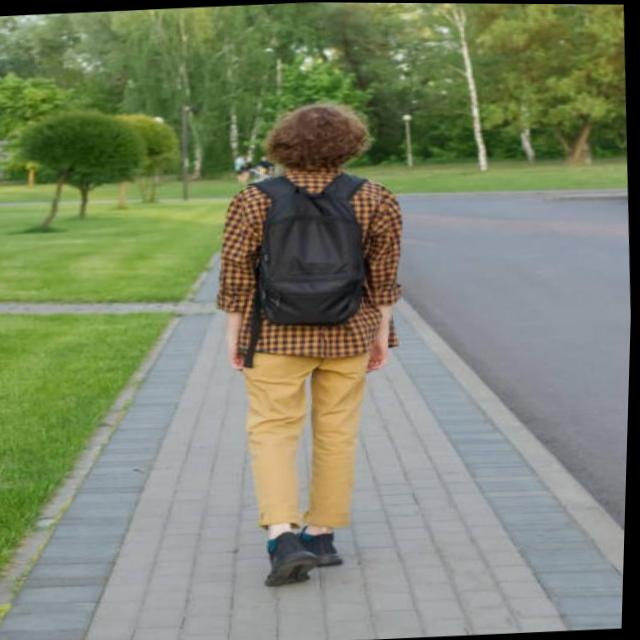no helmet: (248, 90, 396, 179)
